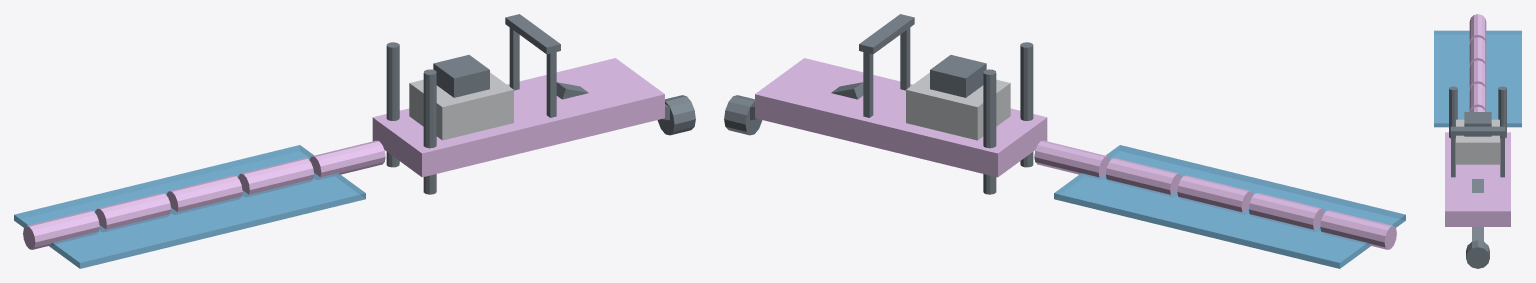
The model's file is dredging-works.glb.
3 views of the same model, side by side, from view 1: azimuth 30°, elevation 25°; view 2: azimuth 150°, elevation 25°; view 3: azimuth 270°, elevation 25° (orthographic). The views are drawn at different scales.
Parts seen in each view (by area): view 1: spoil, pontoon, deckhouse, float-4, float-0, float-2, float-1, wheelhouse, float-3, spud-s, spud-p, cutter-head (+4 smaller); view 2: spoil, pontoon, deckhouse, float-4, float-0, float-2, float-1, wheelhouse, float-3, spud-p, spud-s, cutter-head (+4 smaller); view 3: spoil, pontoon, deckhouse, cutter-head, gantry-top, wheelhouse, float-3, float-2, float-4, float-1, spud-s, spud-p (+3 smaller).
Part boxes in pixels (x1,y1,x2,y2): spoil: (14, 145, 365, 268); pontoon: (372, 58, 664, 177); deckhouse: (409, 72, 513, 140); float-4: (23, 210, 99, 249); float-0: (309, 140, 385, 179); float-2: (166, 175, 242, 214); float-1: (238, 158, 313, 196); wheelhouse: (433, 55, 489, 97); float-3: (95, 193, 171, 231); spud-s: (423, 69, 436, 194); spud-p: (386, 42, 399, 167); cutter-head: (657, 95, 695, 135); spoil: (1054, 145, 1405, 268); pontoon: (755, 58, 1047, 177); deckhouse: (906, 72, 1010, 140); float-4: (1320, 210, 1396, 249); float-0: (1034, 140, 1110, 179); float-2: (1177, 175, 1253, 214); float-1: (1106, 158, 1181, 196); wheelhouse: (930, 55, 986, 97); float-3: (1248, 193, 1324, 231); spud-p: (983, 69, 996, 194); spud-s: (1020, 42, 1033, 167); cutter-head: (724, 95, 762, 135); spoil: (1434, 30, 1521, 127); pontoon: (1445, 132, 1510, 226); deckhouse: (1456, 119, 1499, 164); cutter-head: (1466, 240, 1489, 268); gantry-top: (1450, 126, 1505, 135); wheelhouse: (1464, 112, 1491, 136); float-3: (1469, 37, 1486, 65); float-2: (1469, 60, 1486, 89); float-4: (1469, 14, 1486, 42); float-1: (1469, 83, 1486, 111); spud-s: (1449, 86, 1457, 138); spud-p: (1498, 86, 1506, 138).
Size of the model in its own units: 92 by 18.4 by 16.
